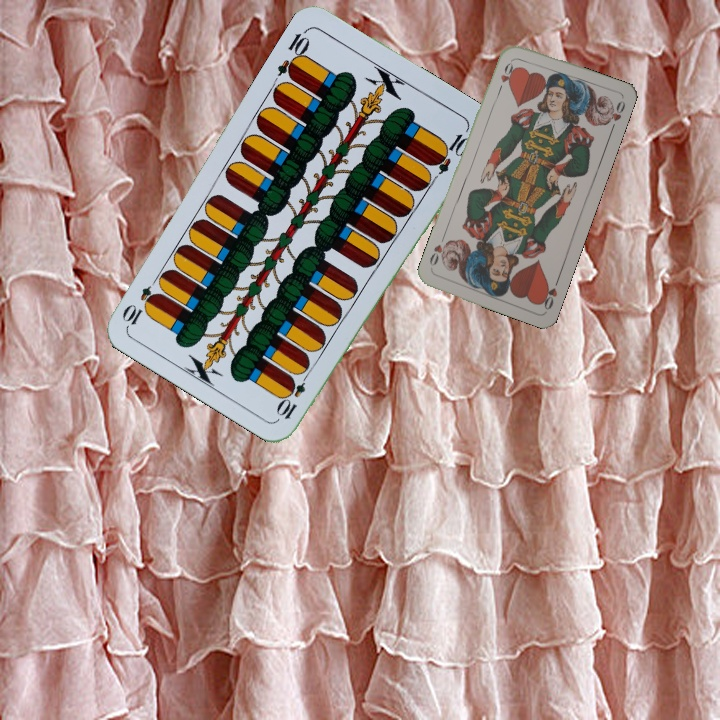E10: (273, 25, 313, 82), (274, 366, 313, 422)
HO: (537, 274, 562, 313), (494, 56, 516, 95)
